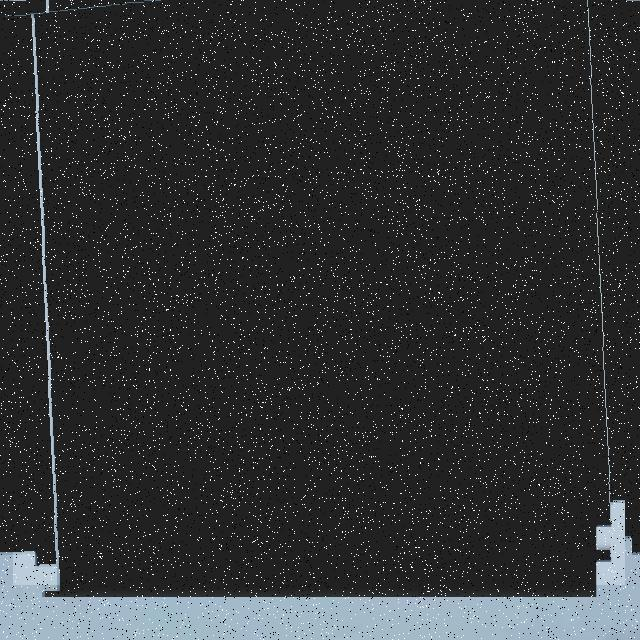dua ribu rupiah: (13, 0, 625, 585)
